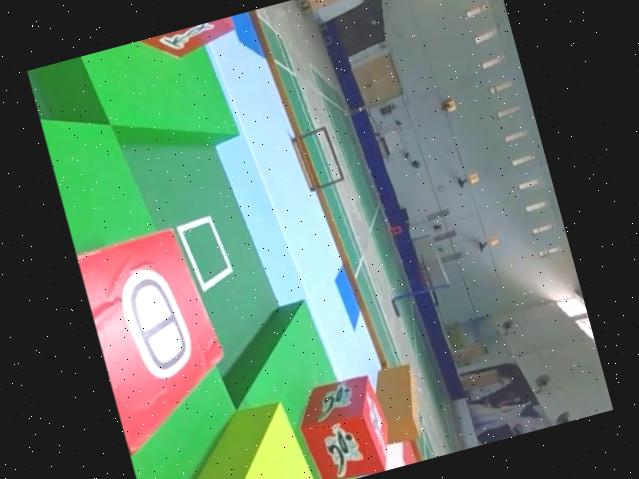R1: (284, 372, 397, 479)
R2 Fake: (76, 224, 243, 454)
R2 Real: (128, 15, 241, 68)
